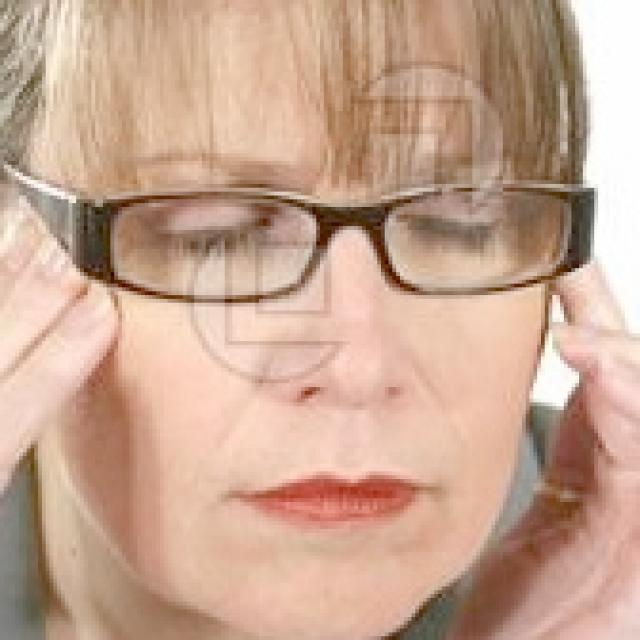Sleepy: (65, 146, 608, 582)
